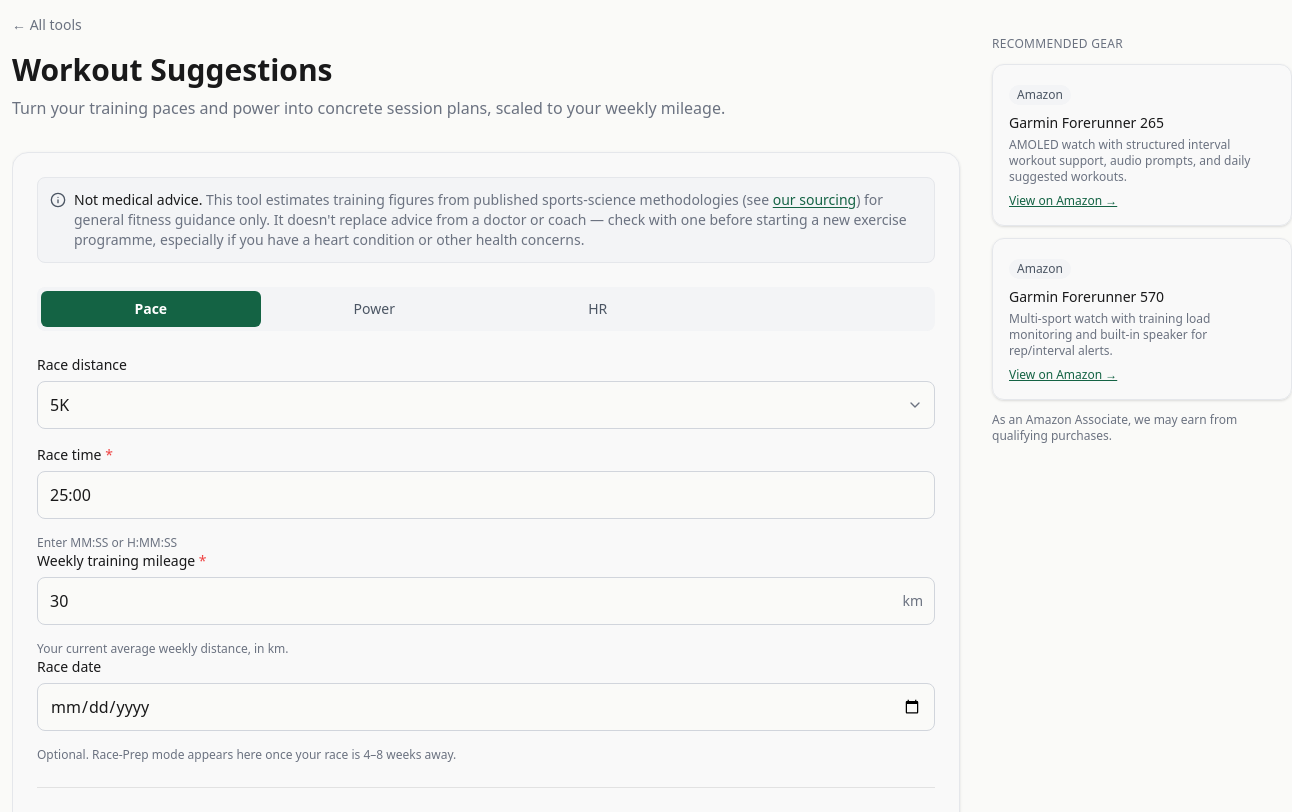
Test: HR mode › shows the LTHR input when HR tab is selected
Click the tab "HR": (598, 309) [488, 291, 708, 327]
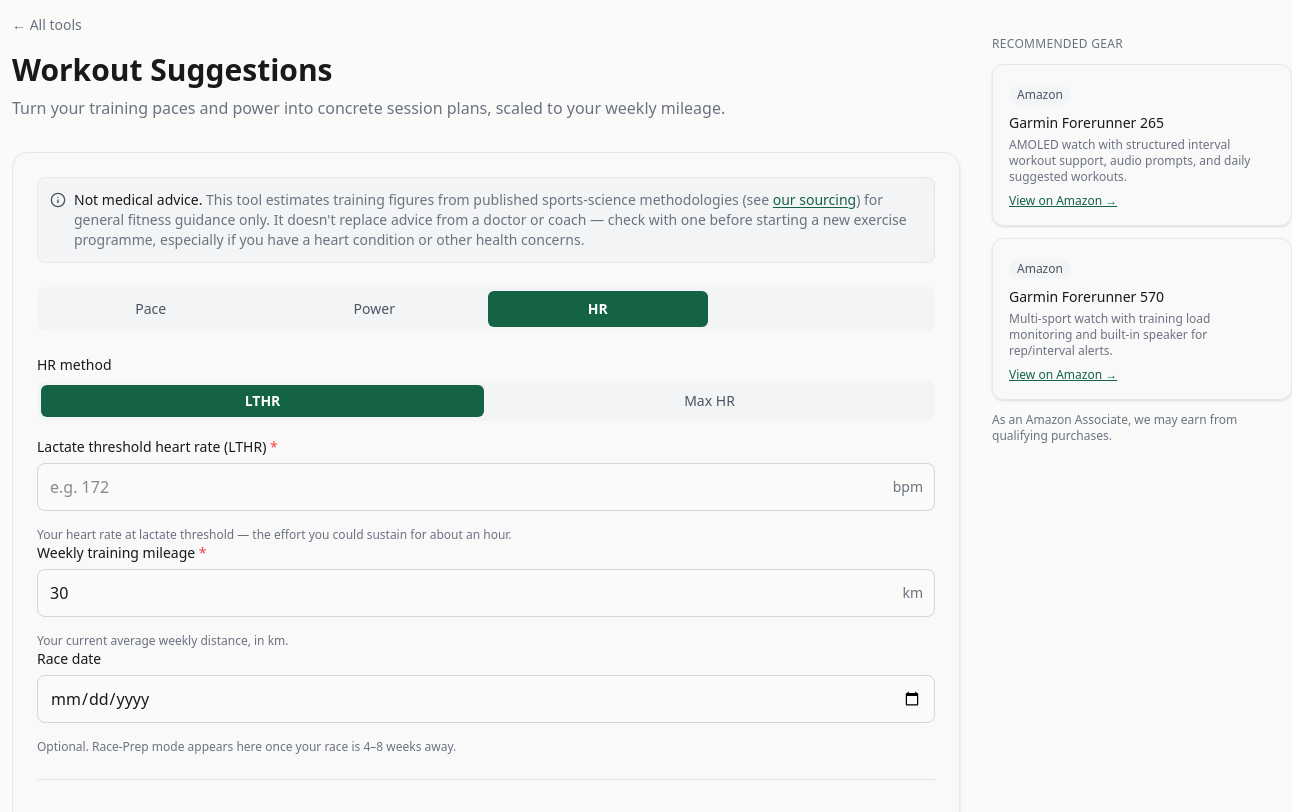
Now the field labelled "Lactate threshold heart rate (LTHR) *" is shown, box [37, 463, 935, 511]
